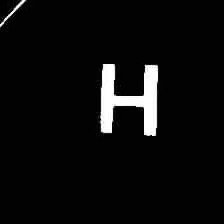LTR_H: (93, 59, 165, 139)
